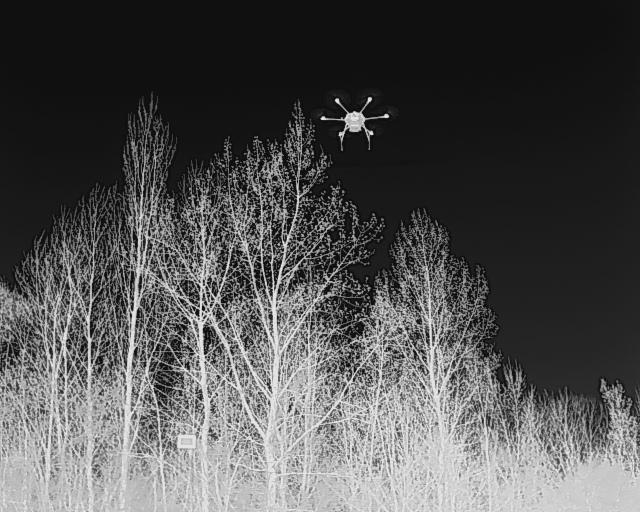drone: (310, 84, 397, 165)
